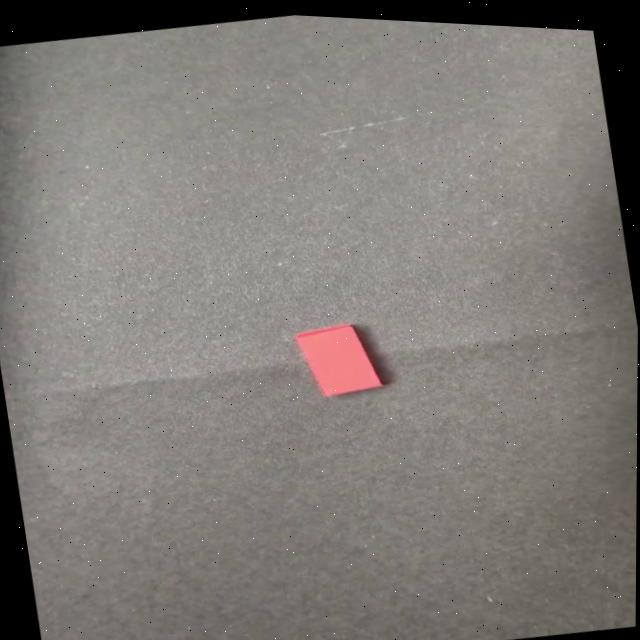red block: (293, 317, 388, 405)
